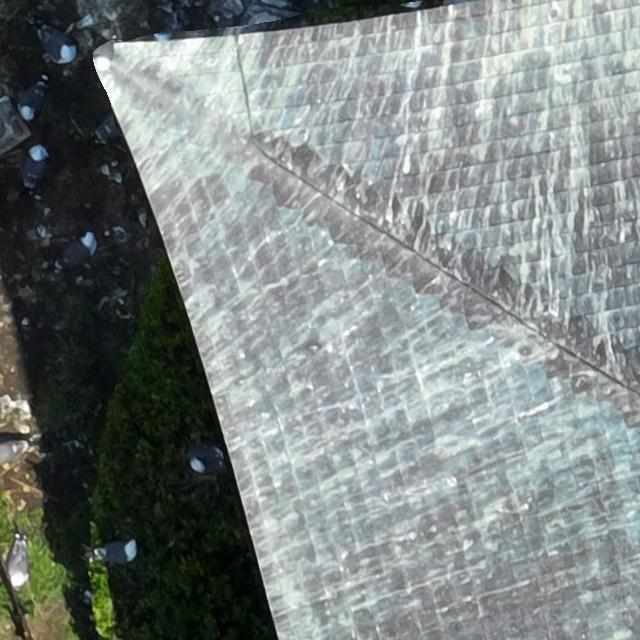umineko: (59, 233, 93, 265), (40, 30, 74, 61), (99, 29, 118, 77), (24, 146, 46, 185), (9, 543, 29, 585), (100, 541, 138, 562), (20, 84, 43, 118), (191, 450, 218, 472), (2, 440, 24, 462)
